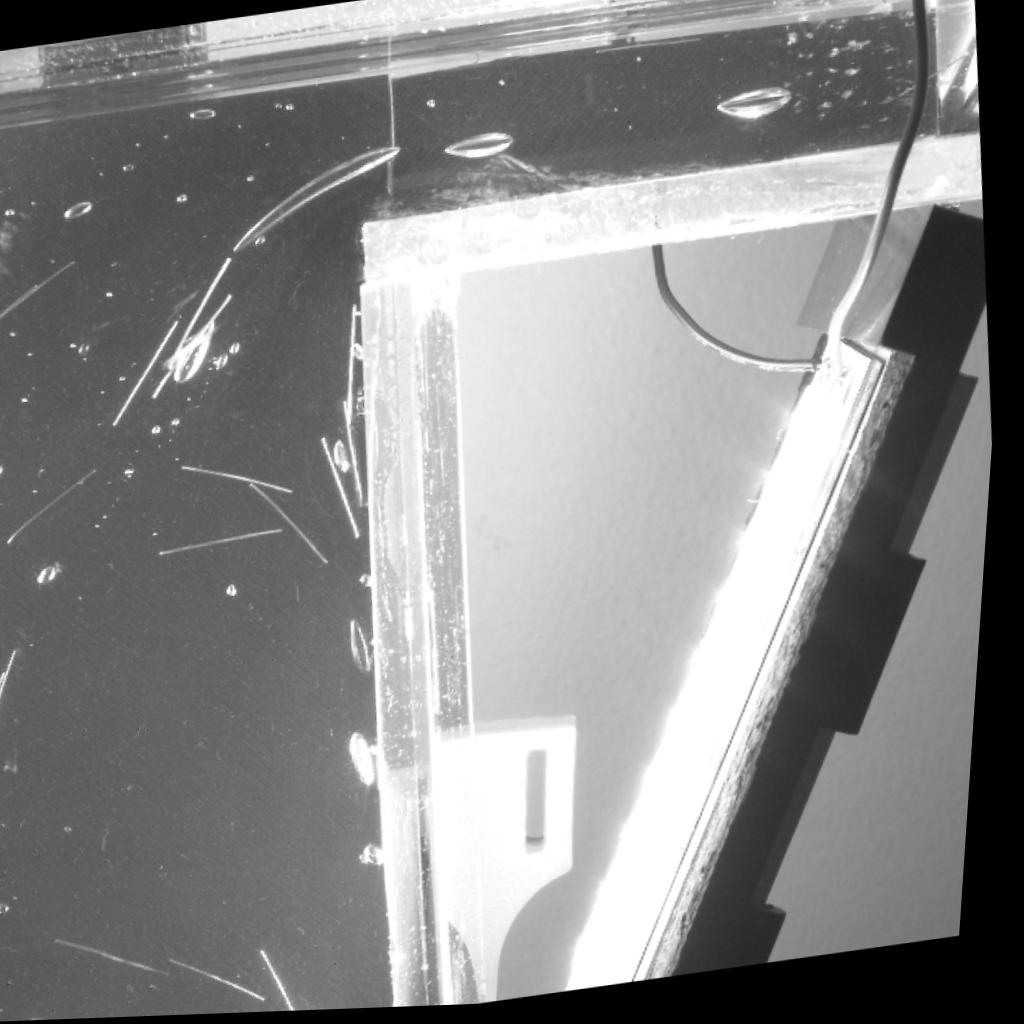Fiber: (154, 291, 242, 405), (7, 467, 108, 550), (168, 255, 239, 373), (253, 481, 343, 569), (116, 319, 186, 428), (64, 932, 186, 981), (0, 258, 81, 330), (322, 436, 372, 544), (183, 958, 285, 1010), (165, 525, 295, 560), (184, 463, 310, 498), (344, 401, 373, 512), (271, 947, 313, 1014), (0, 649, 29, 740), (0, 280, 46, 325), (595, 42, 706, 59), (349, 304, 364, 425), (0, 670, 17, 726), (0, 630, 11, 645), (0, 636, 12, 649), (0, 222, 6, 231)
